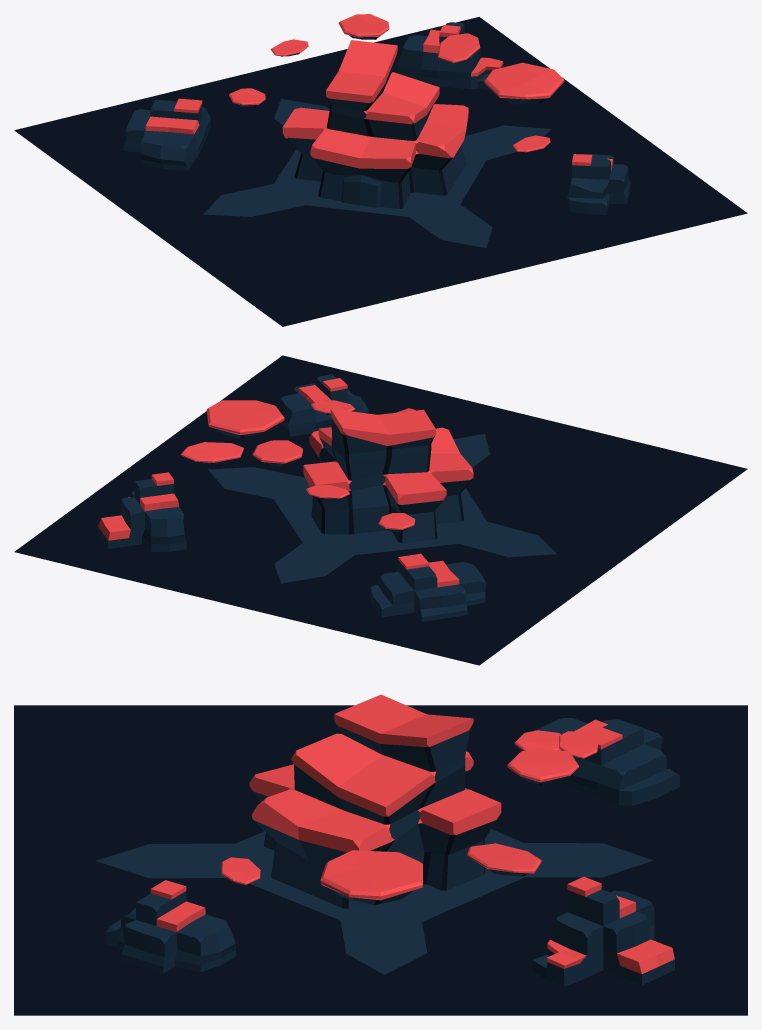
The model's file is map10.glb.
3 views of the same model, one above another, from view 1: azimuth 30°, elevation 25°; view 2: azimuth 150°, elevation 25°; view 3: azimuth 270°, elevation 25° (orthographic). The views are drawn at different scales.
Visible parts, largest first — view 1: Bg, Cube.017, Cube.002, Cube.013, Cube.001, Cube.008, Cube.006, Cube.007, Cube.004; view 2: Bg, Cube.017, Cube.002, Cube.013, Cube.001, Cube.008, Cube.007, Cube.006, Cube.004; view 3: Bg, Cube.017, Cube.013, Cube.001, Cube.002, Cube.008, Cube.006, Cube.007, Cube.003, Cube.005, Cube.004.
Boxes of the visible parts, x1=… form: Bg: x1=14, y1=17, x2=747, y2=326; Cube.017: x1=282, y1=40, x2=468, y2=208; Cube.002: x1=123, y1=98, x2=210, y2=170; Cube.013: x1=397, y1=22, x2=503, y2=90; Cube.001: x1=567, y1=154, x2=630, y2=214; Cube.008: x1=484, y1=62, x2=564, y2=104; Cube.006: x1=338, y1=14, x2=389, y2=39; Cube.007: x1=438, y1=33, x2=480, y2=63; Cube.004: x1=229, y1=88, x2=265, y2=106; Bg: x1=14, y1=355, x2=747, y2=665; Cube.017: x1=303, y1=408, x2=473, y2=542; Cube.002: x1=370, y1=553, x2=486, y2=621; Cube.013: x1=97, y1=472, x2=186, y2=551; Cube.001: x1=279, y1=374, x2=368, y2=436; Cube.008: x1=206, y1=400, x2=284, y2=438; Cube.007: x1=180, y1=442, x2=243, y2=464; Cube.006: x1=252, y1=440, x2=302, y2=466; Cube.004: x1=378, y1=513, x2=415, y2=532; Bg: x1=14, y1=705, x2=747, y2=1015; Cube.017: x1=249, y1=694, x2=501, y2=908; Cube.013: x1=532, y1=876, x2=674, y2=986; Cube.001: x1=106, y1=880, x2=235, y2=973; Cube.002: x1=516, y1=718, x2=679, y2=805; Cube.008: x1=320, y1=850, x2=422, y2=905; Cube.006: x1=507, y1=747, x2=578, y2=785; Cube.007: x1=467, y1=843, x2=541, y2=875; Cube.003: x1=221, y1=857, x2=260, y2=885; Cube.005: x1=559, y1=731, x2=597, y2=758; Cube.004: x1=514, y1=730, x2=560, y2=750.
Size of what is drawn, in the model's own units: 24 by 5.36 by 24.
Materials: 1 (1 with a texture image).
